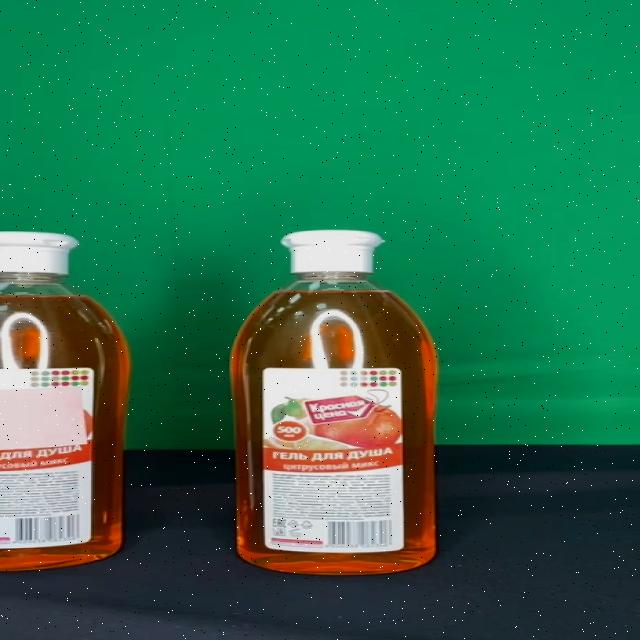Bottle: (227, 230, 439, 574)
Cap: (281, 230, 384, 274)
